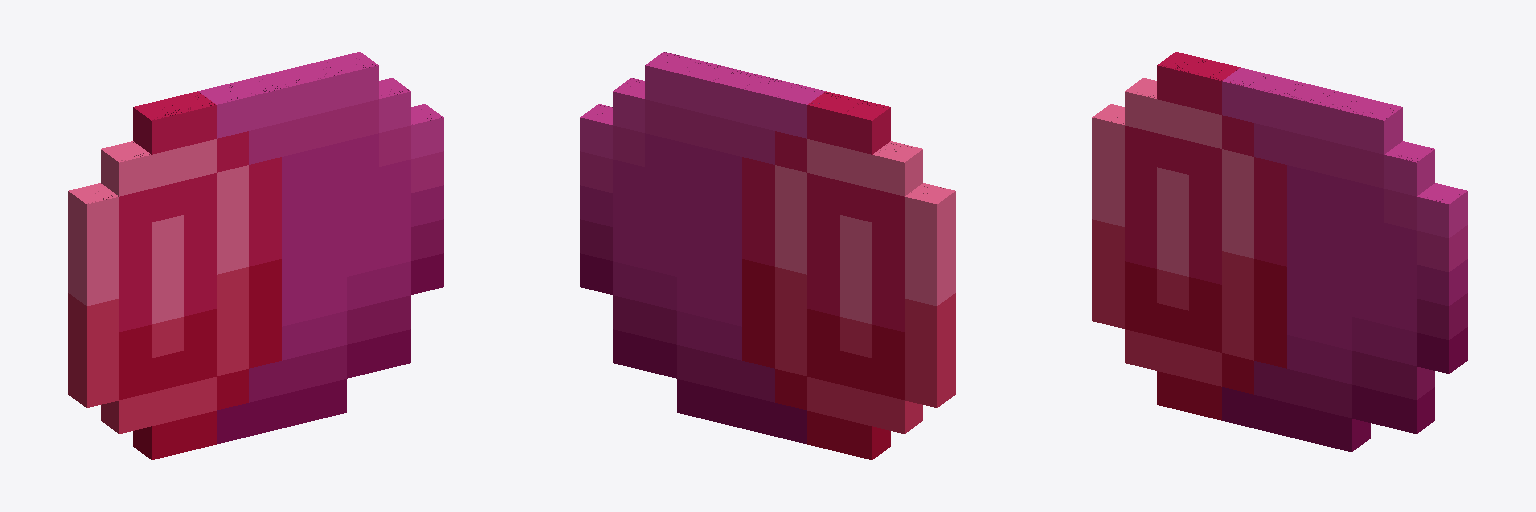
The picture shows the model from 3 angles: view 1: azimuth 30°, elevation 25°; view 2: azimuth 150°, elevation 25°; view 3: azimuth 330°, elevation 25°; orthographic projection.
Bounding box in the file's own units: 0.6875 × 0.625 × 0.0625.
1 materials, 1 textured.